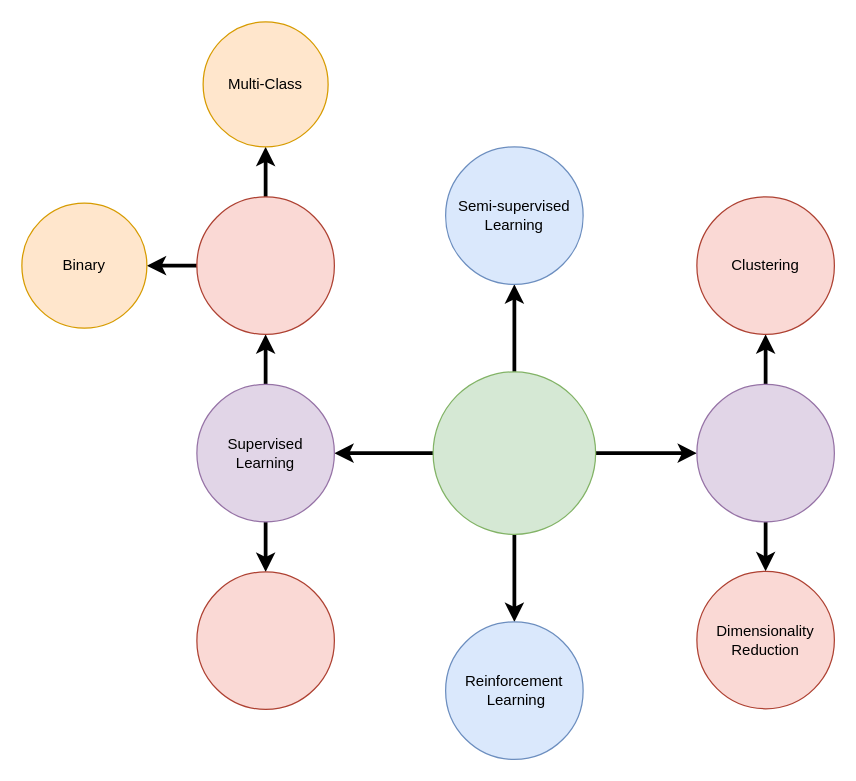
This 856x781 diagram has some shape labels left out. Here are the shapes that lost their labels. From the top down, the box of each, then its label:
(196, 196, 334, 334): Classification
(432, 371, 596, 534): Machine Learning
(696, 383, 834, 522): Unsupervised Learning
(196, 571, 334, 709): Regression
